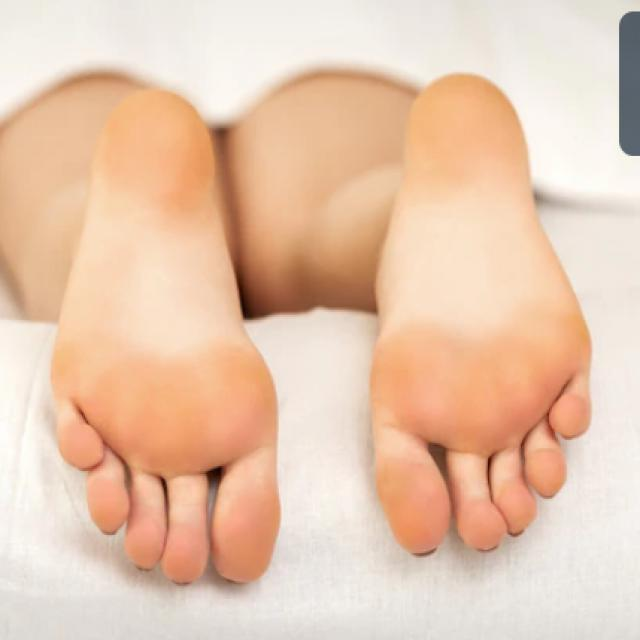No_Shoes: (32, 72, 278, 592), (338, 60, 576, 577)
